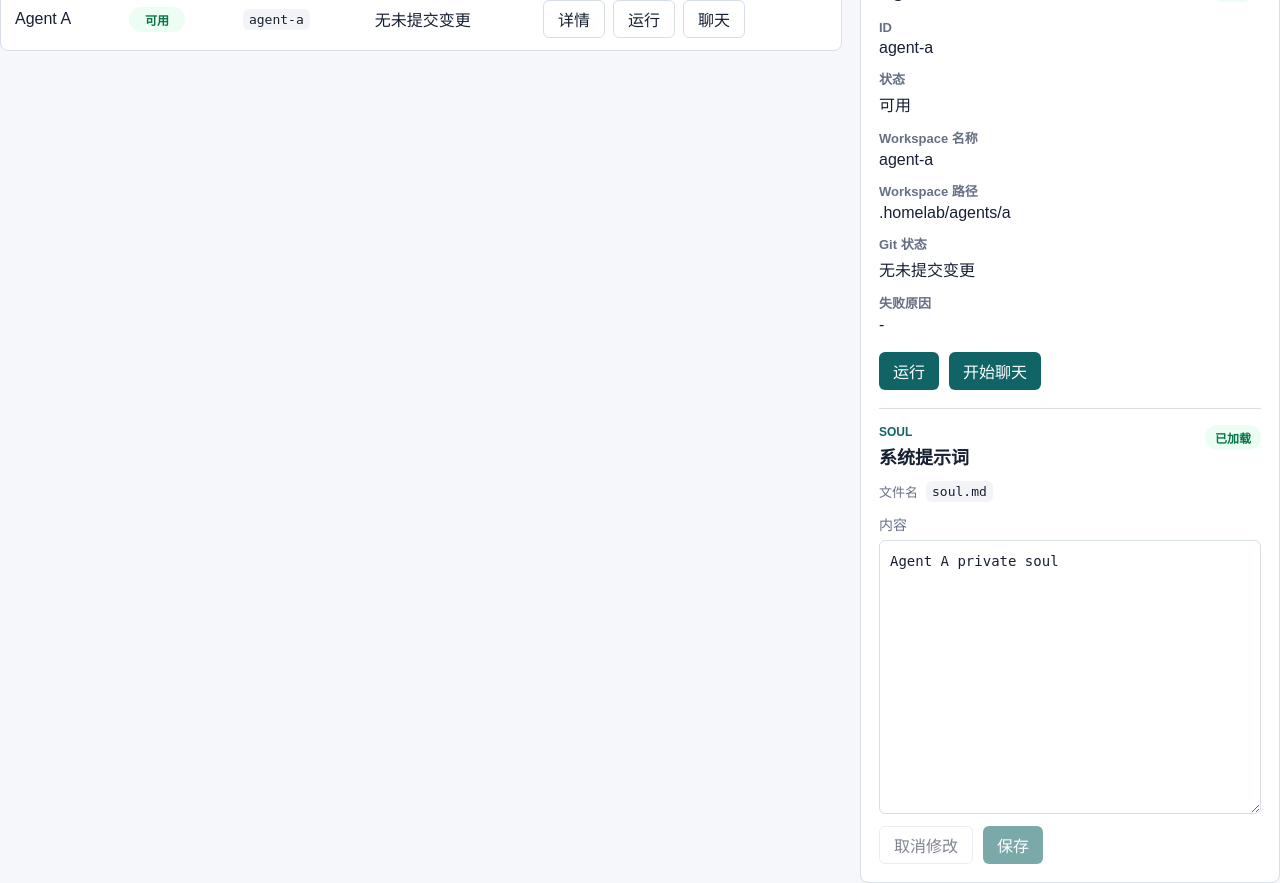
Test: AgentsPage › keeps the edited draft when soul save fails
(page scrolled)
Replace the text in the text box named "Soul 内容" with "Unsaved soul" at point(1070, 677), box x1=879 y1=540 x2=1261 y2=814
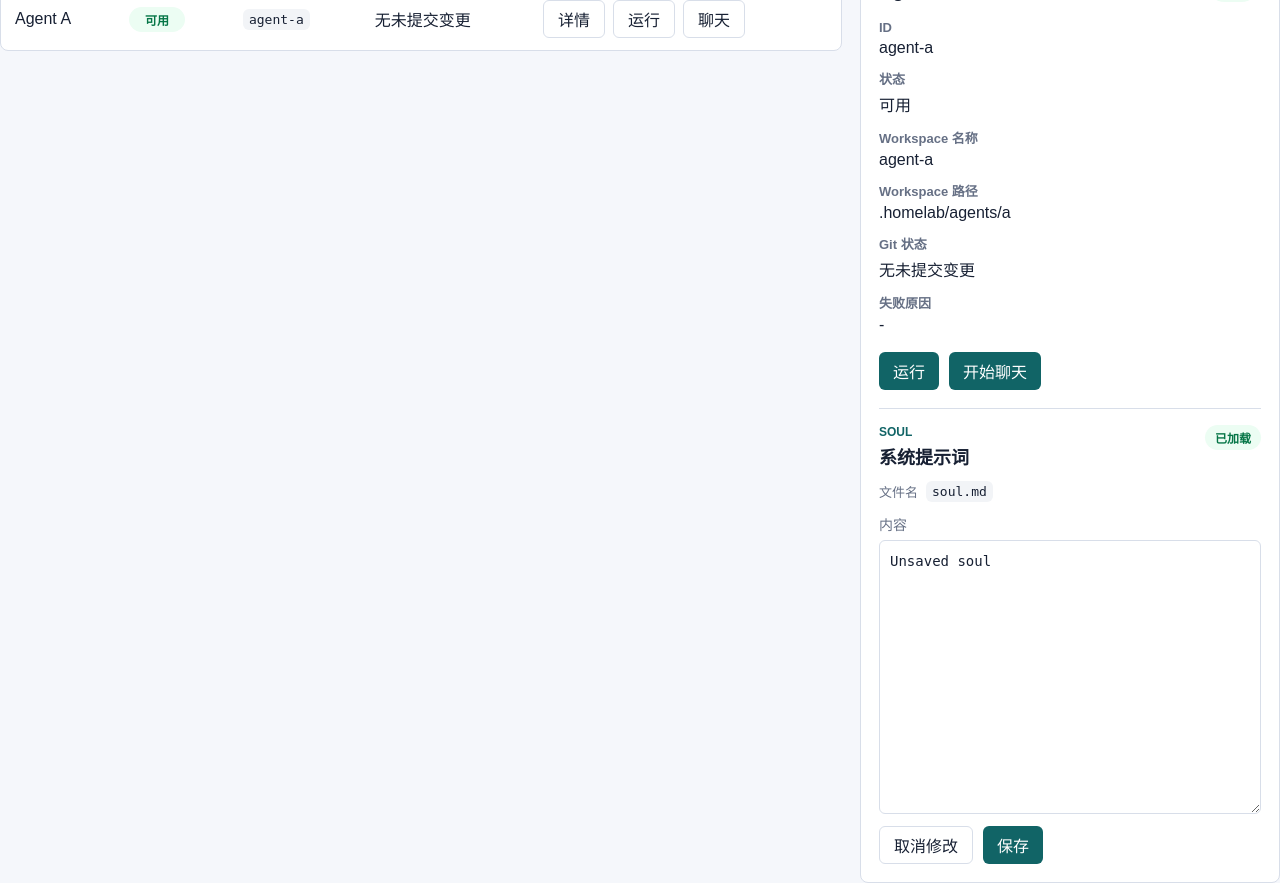
Expected: the button "保存" is enabled
Click the button "保存".
click(1013, 845)  # box x1=983 y1=826 x2=1043 y2=864
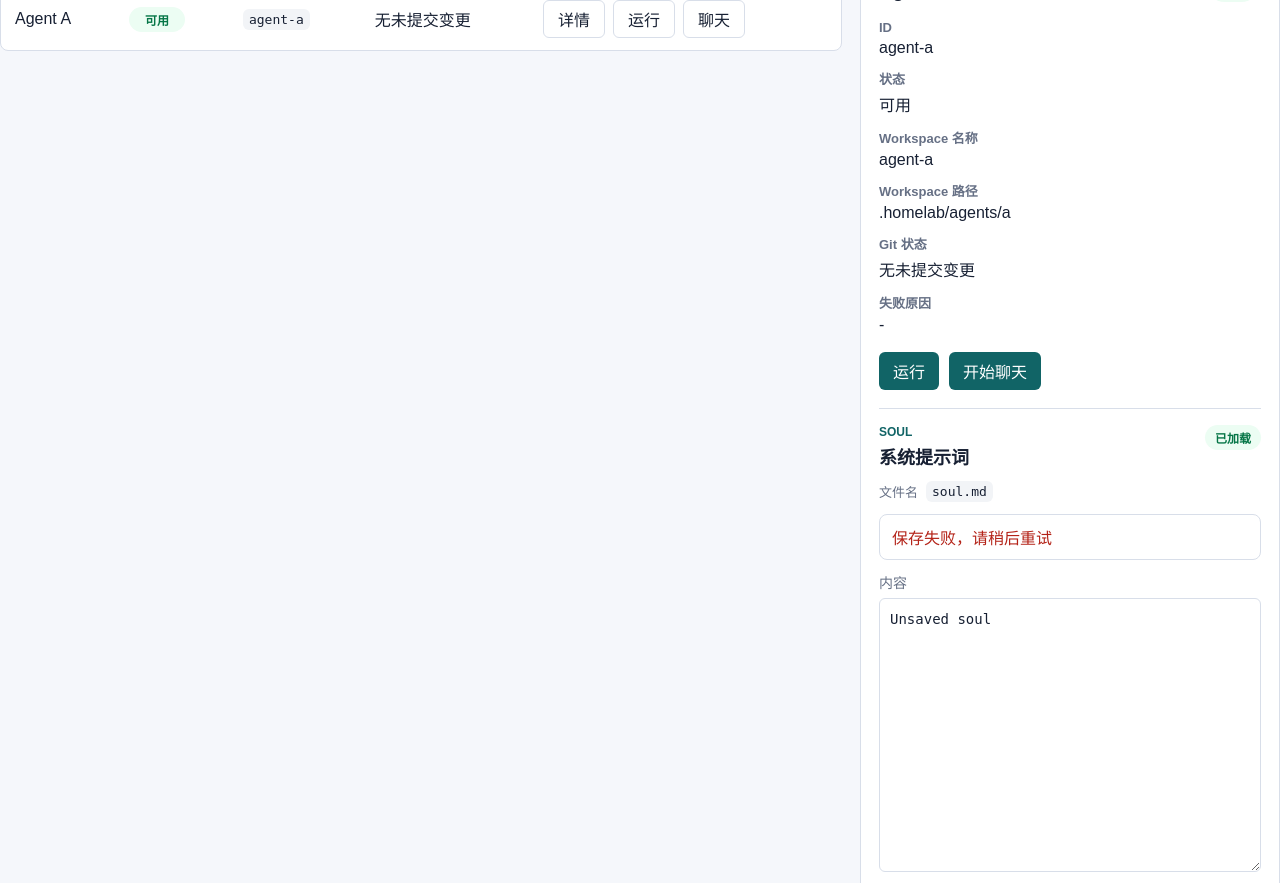
Expected: the text "保存失败，请稍后重试" is shown, x1=879 y1=514 x2=1261 y2=560
